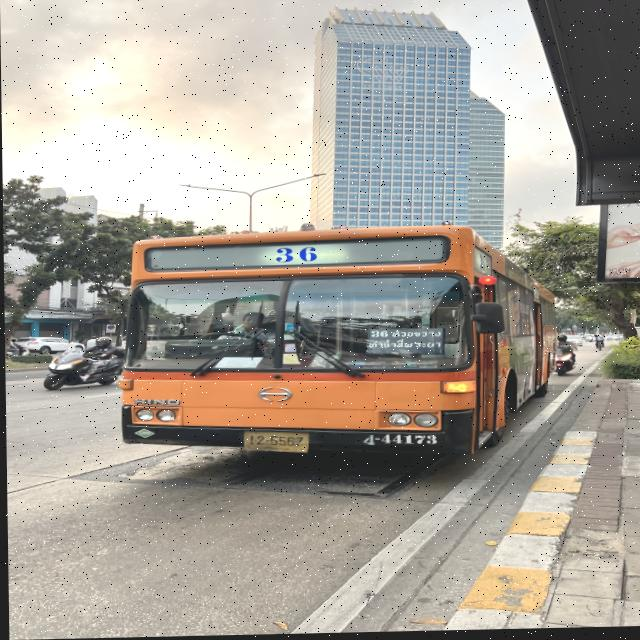BMTA-bus: (95, 218, 563, 470)
Bus-Line-Number: (268, 247, 322, 266)
Destination-Sign-Normal: (363, 328, 443, 357)
